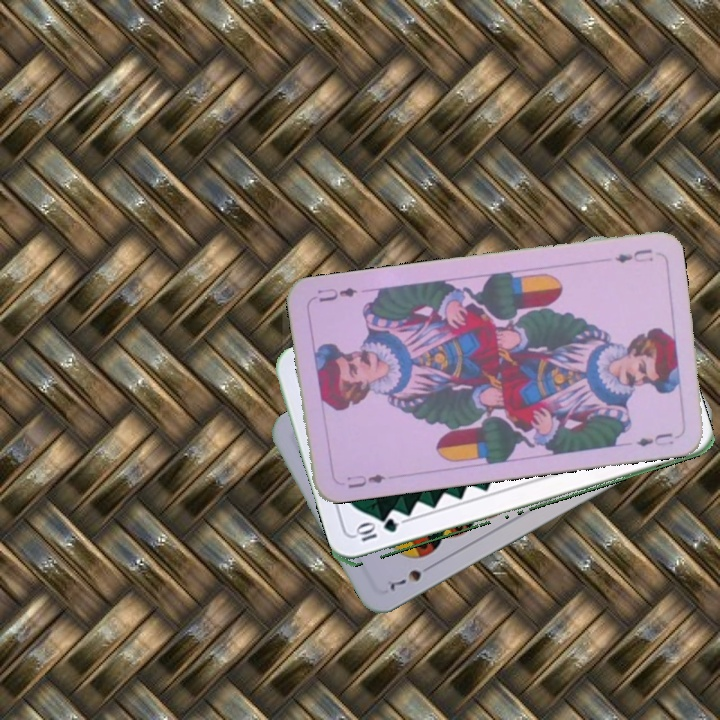EU: (342, 470, 389, 491), (611, 245, 656, 266)
G10: (352, 516, 401, 544)
S7: (385, 559, 437, 592)
